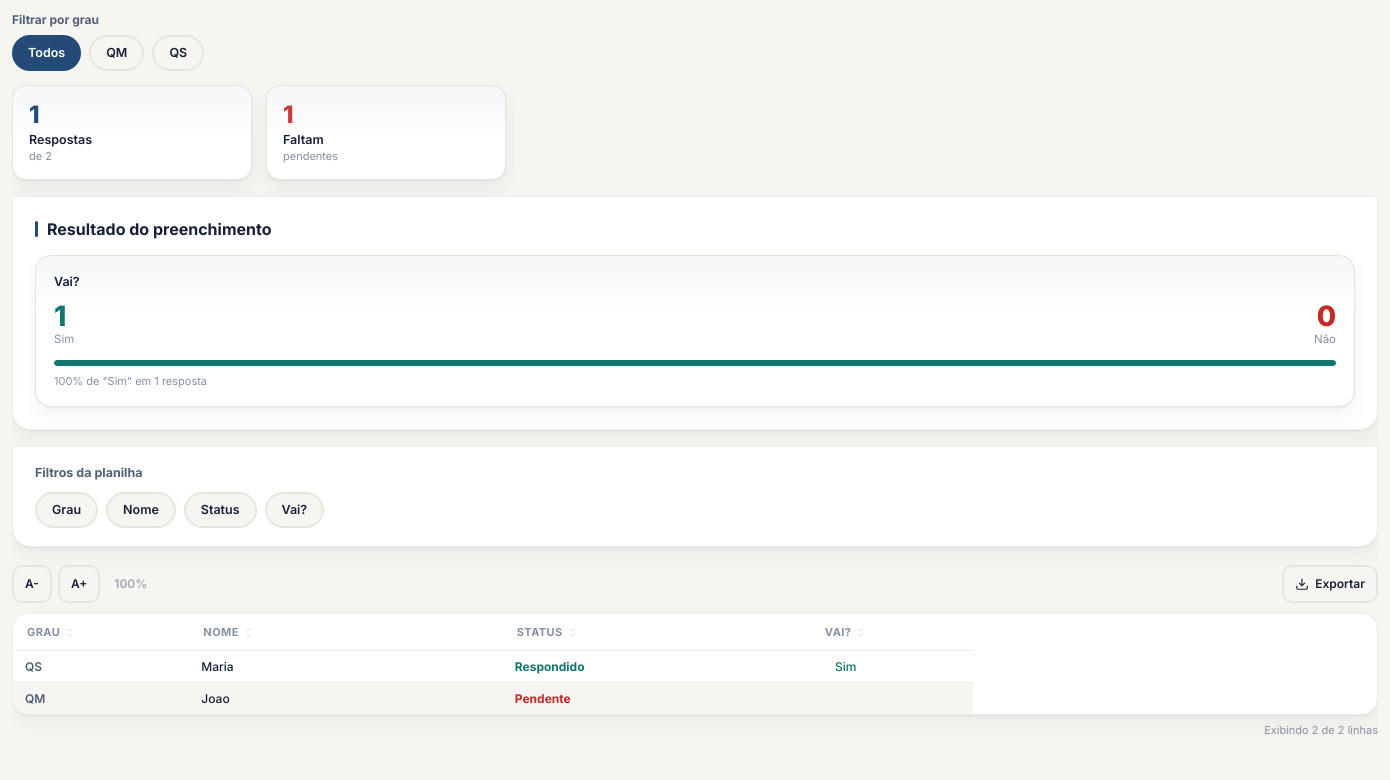
Test: ResultsScreen › filtra a planilha por grau com os botões de filtro
Click the button "QM" at (117,53), box [89,35,144,71]
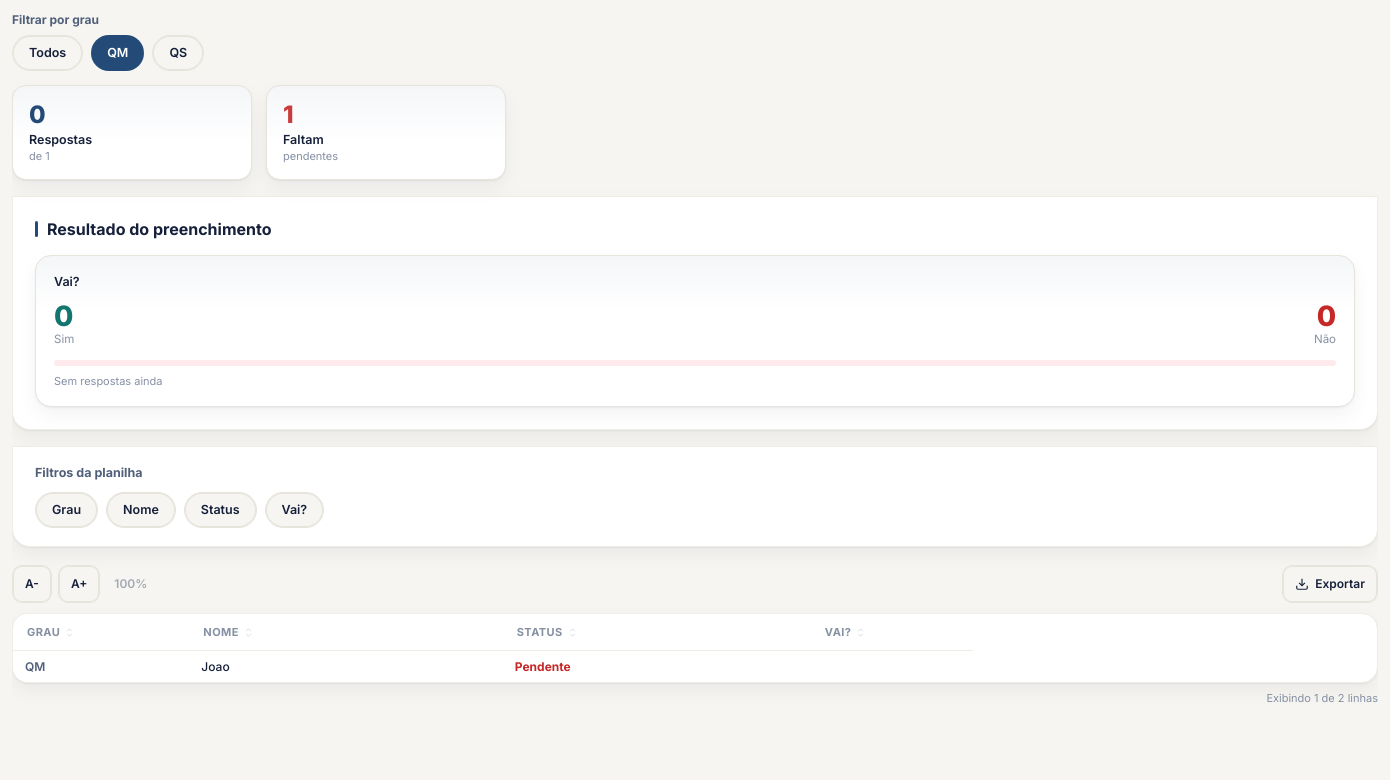
Expected: the text "Joao" is shown, [189,650,503,682]
Expected: the text "Maria" is gone
